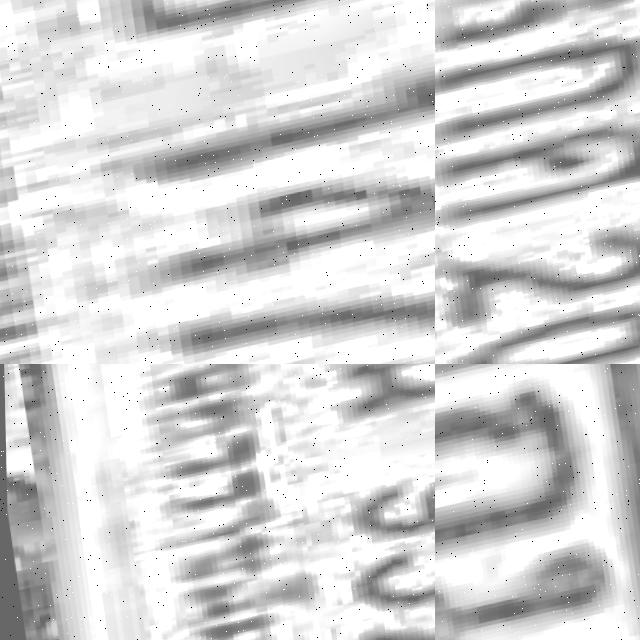license-plate: (0, 0, 435, 364), (0, 364, 435, 640), (435, 0, 640, 364), (435, 364, 640, 640)
